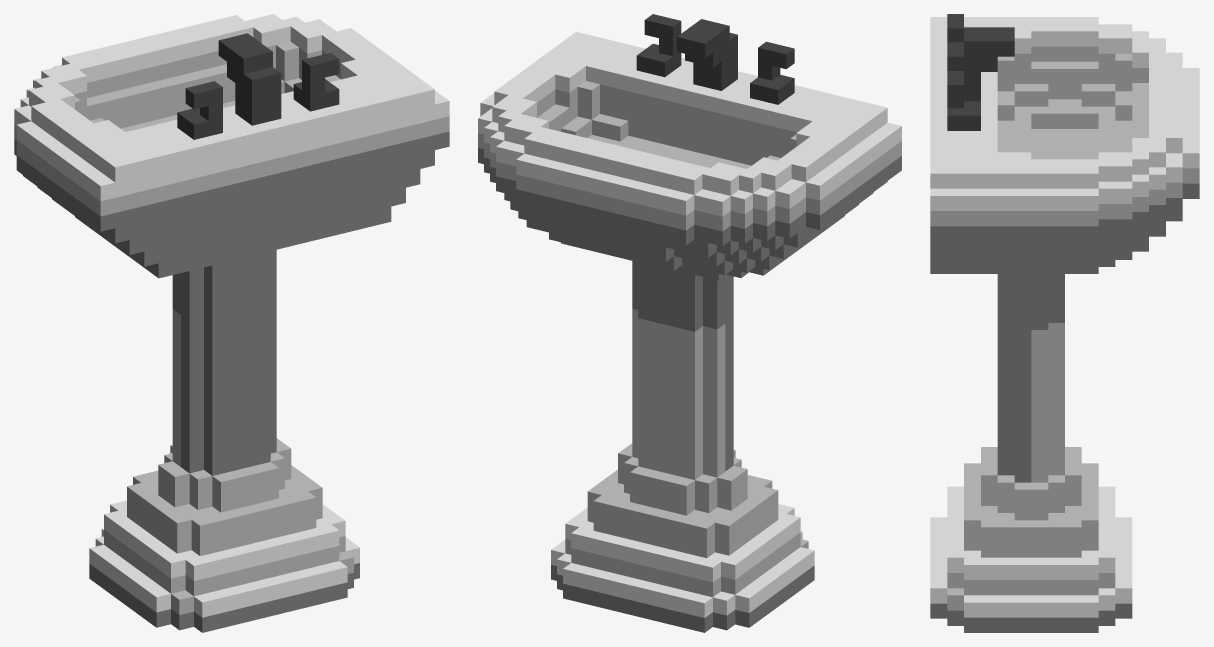
Rendered from pia.obj.
3 renders of one model, left to right at view 1: azimuth 30°, elevation 25°; view 2: azimuth 150°, elevation 25°; view 3: azimuth 270°, elevation 25°, orthographic. The views are drawn at different scales.
Parts seen in each view (by area): view 1: pia; view 2: pia; view 3: pia.
Part boxes in pixels (bbox=[...]): pia: bbox=[14, 14, 449, 632]; pia: bbox=[478, 14, 901, 632]; pia: bbox=[930, 14, 1199, 632].
Size of the model in its own units: 24 by 36 by 16.
Materials: 1 (1 with a texture image).
